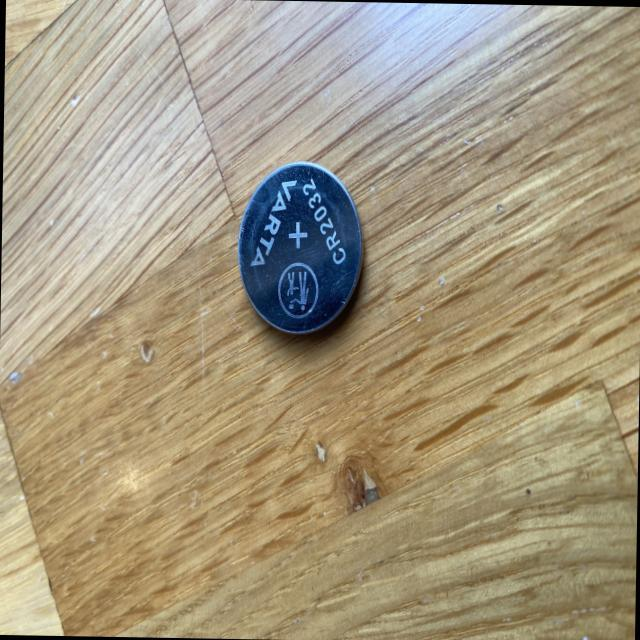COIN: (235, 158, 365, 334)
